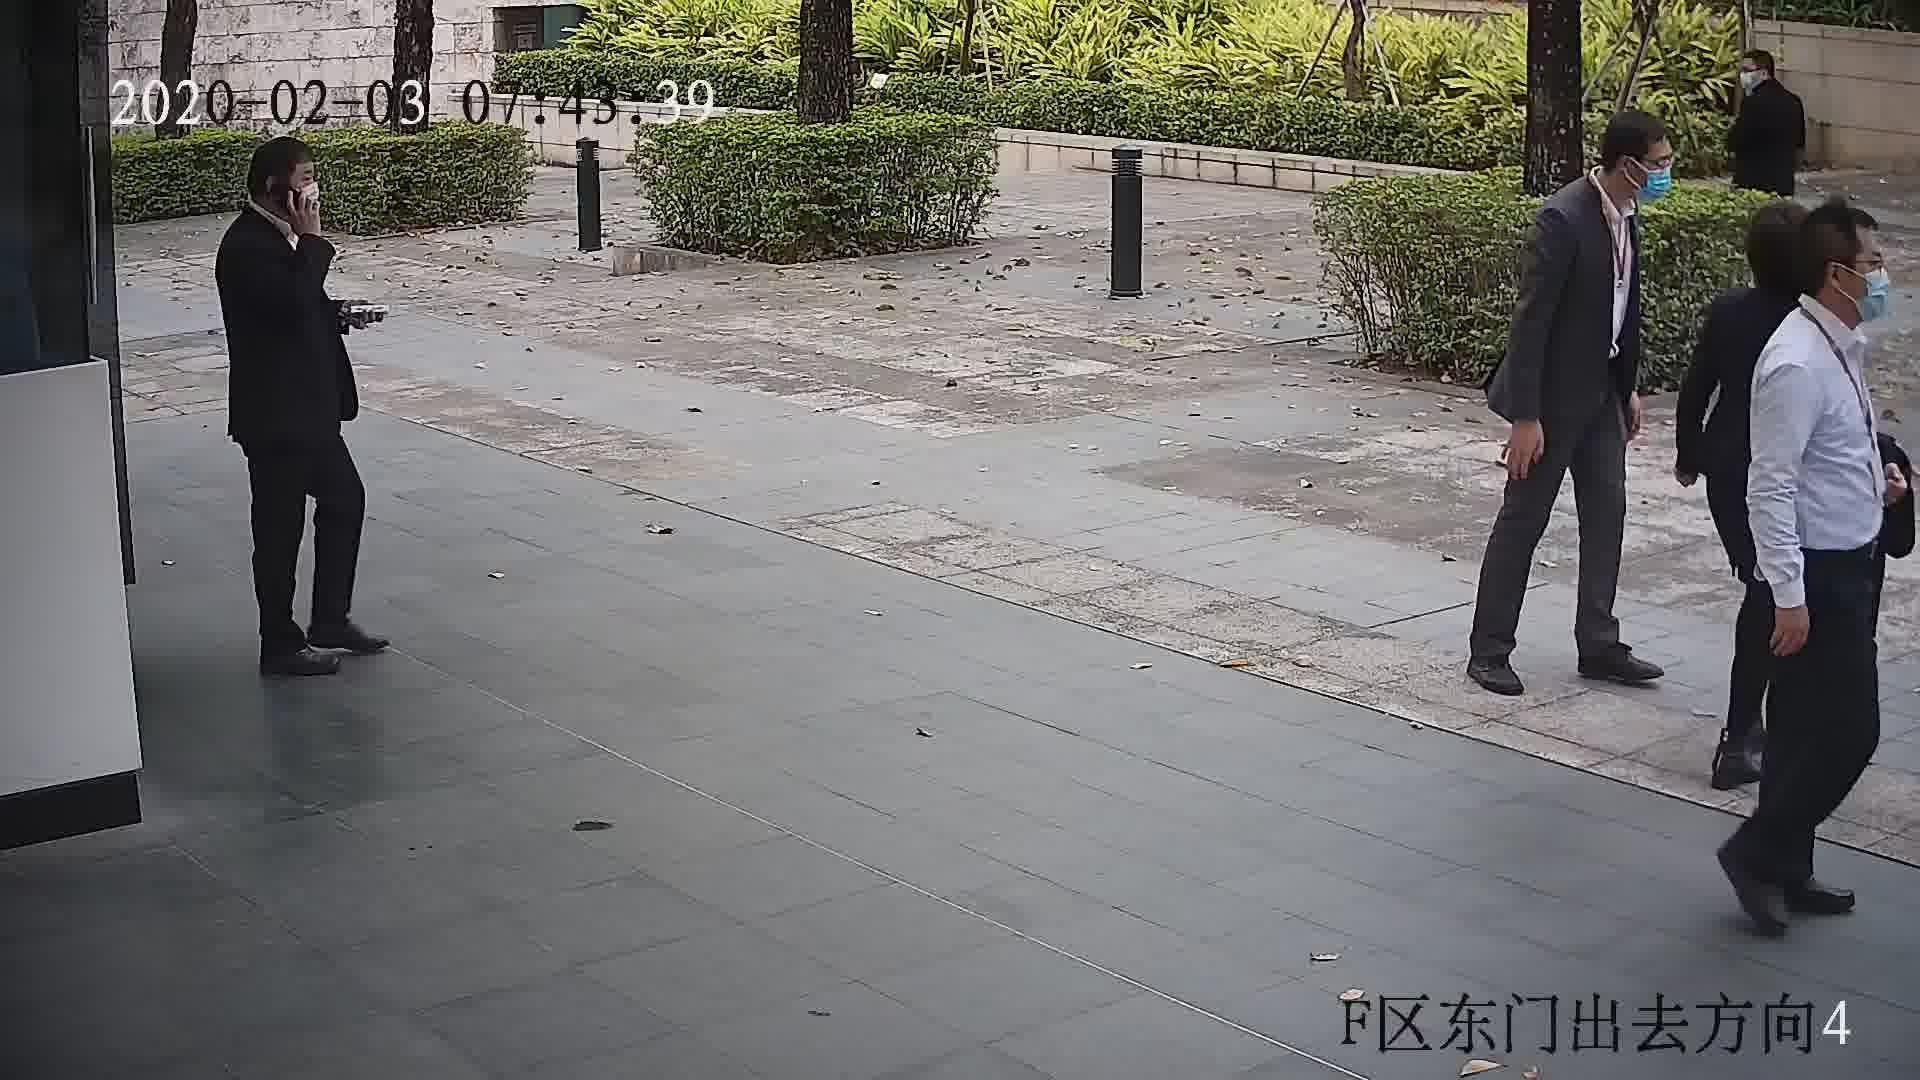face: (1837, 222, 1890, 324), (277, 167, 331, 222), (1632, 134, 1673, 205), (1737, 53, 1759, 93)
mask: (1856, 264, 1890, 324), (1637, 158, 1671, 210)
person: (1760, 209, 1888, 399), (1532, 108, 1675, 251), (215, 139, 329, 288), (1705, 198, 1814, 346), (1735, 43, 1806, 115)
